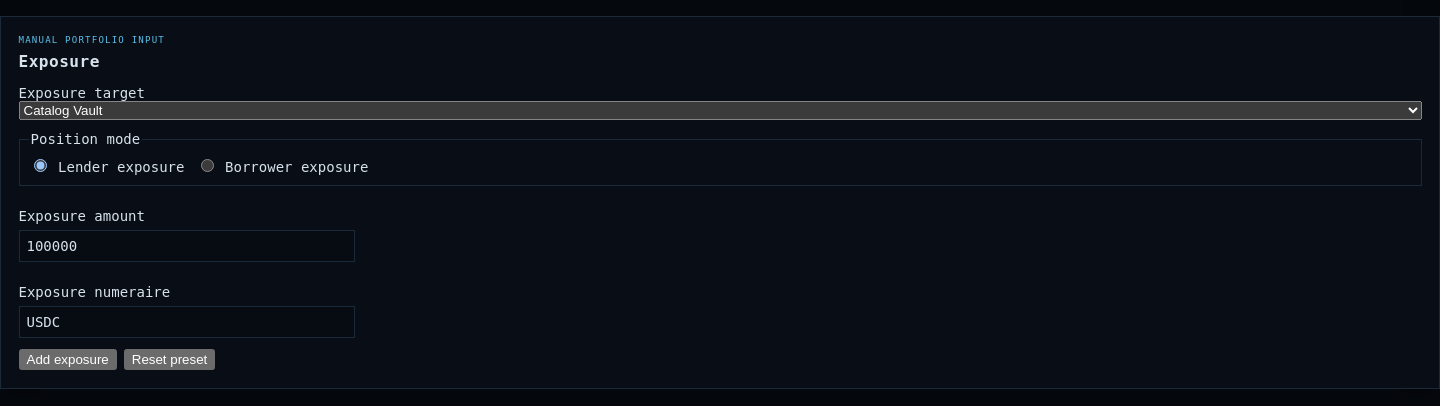
ExposureRail › resets edited values to the current mode preset
Replace the text in the field labelled "Exposure amount" with "12" at (186, 246), box [18,230,354,262]
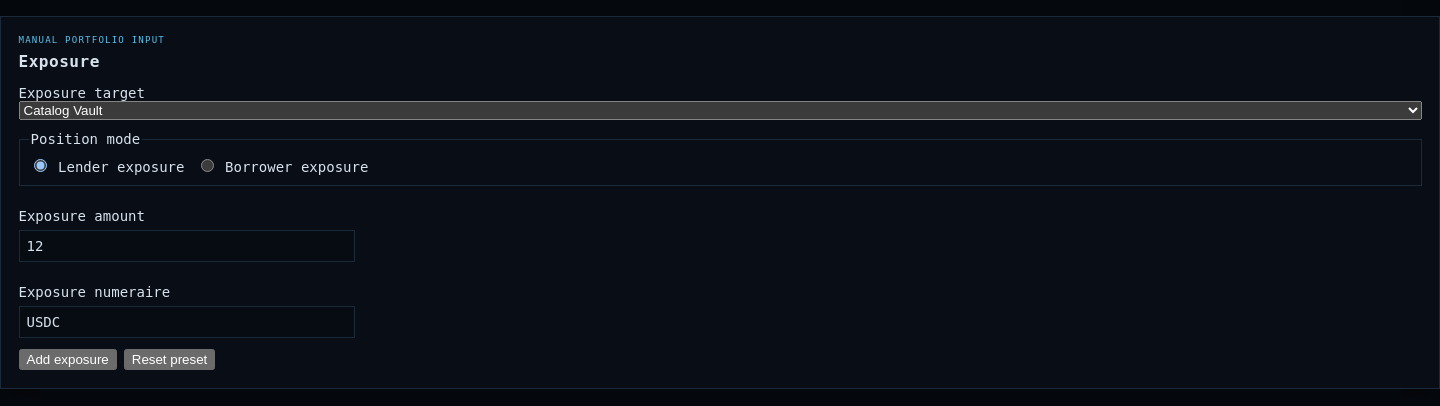
Replace the text in the field labelled "Exposure numeraire" with "WETH" at (186, 322), box [18,306,354,338]
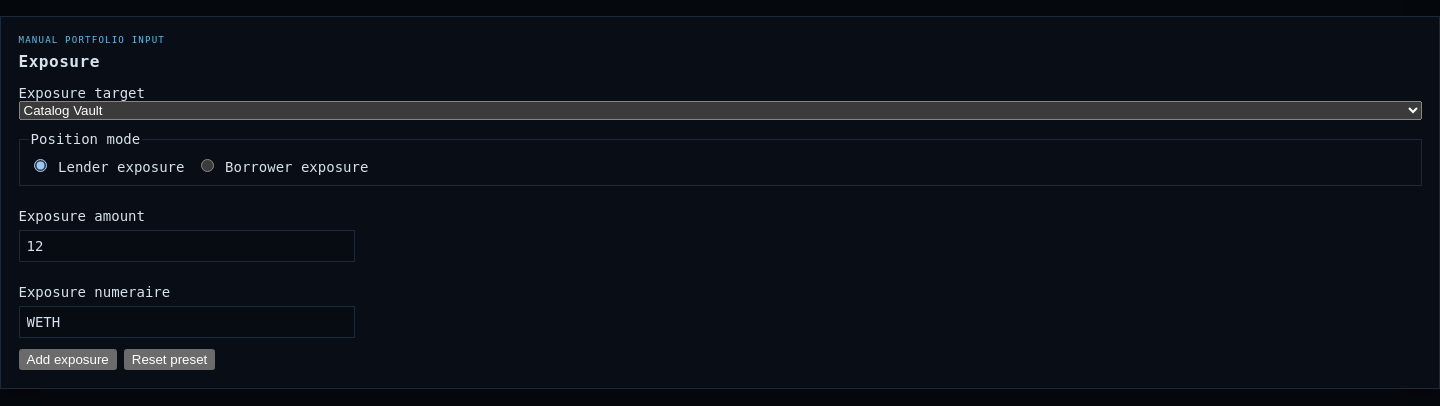
Click the button "Reset preset" at (170, 360), box [124,349,215,370]
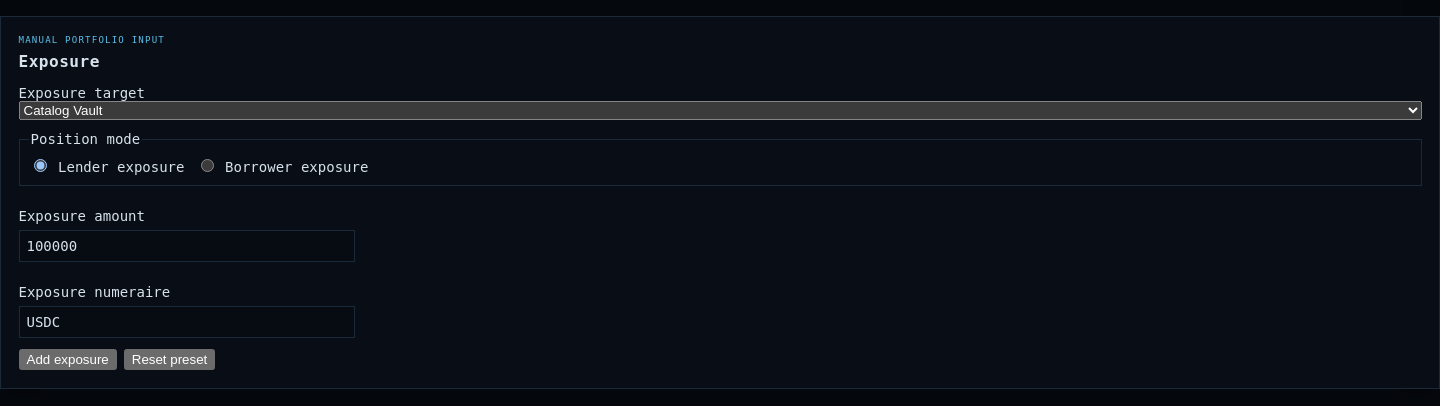
Now the field labelled "Exposure amount" holds "100000", box [18,230,354,262]
Now the field labelled "Exposure numeraire" holds "USDC", box [18,306,354,338]
